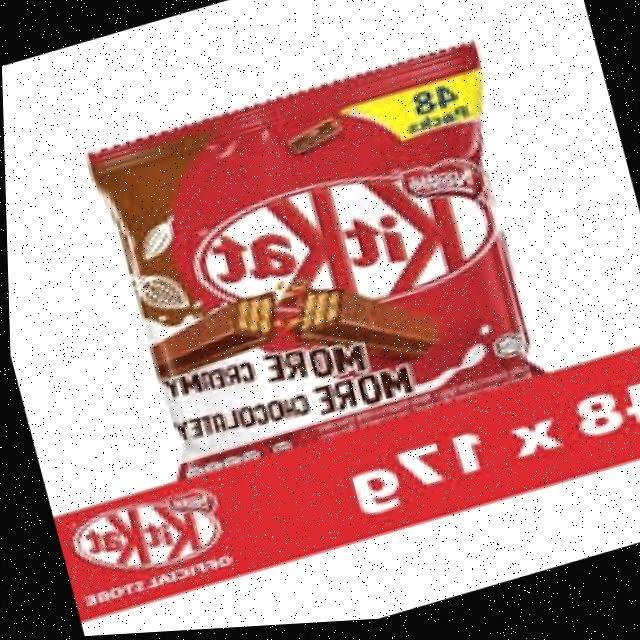kitkat_chocolate: (167, 55, 495, 497)
